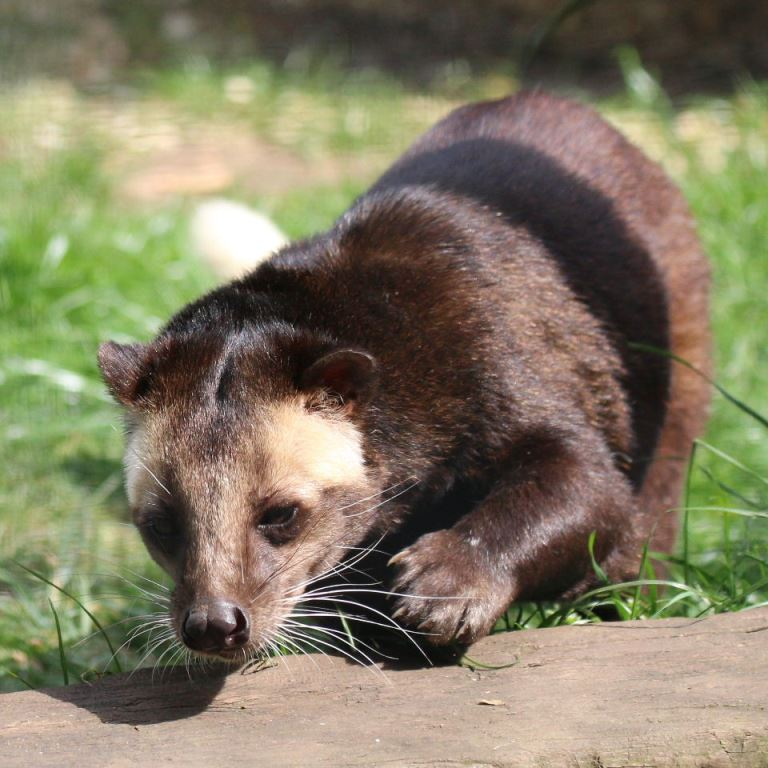Civet: (89, 61, 744, 673)
